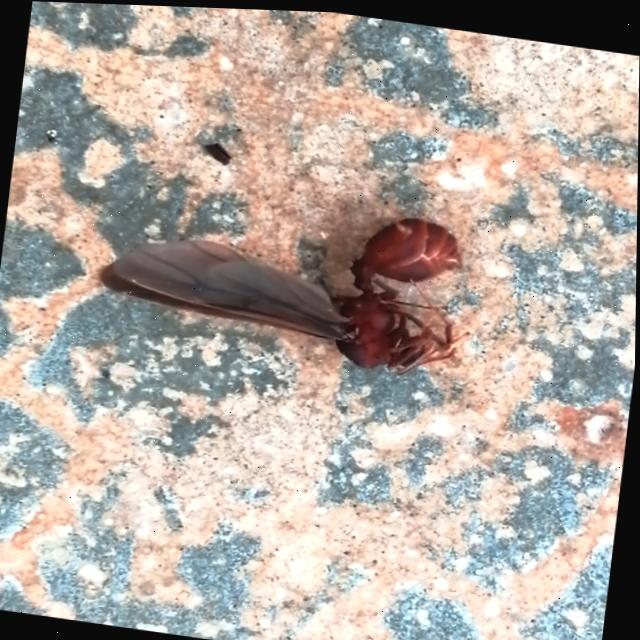Dead-Female-Alate: (104, 174, 484, 382)
